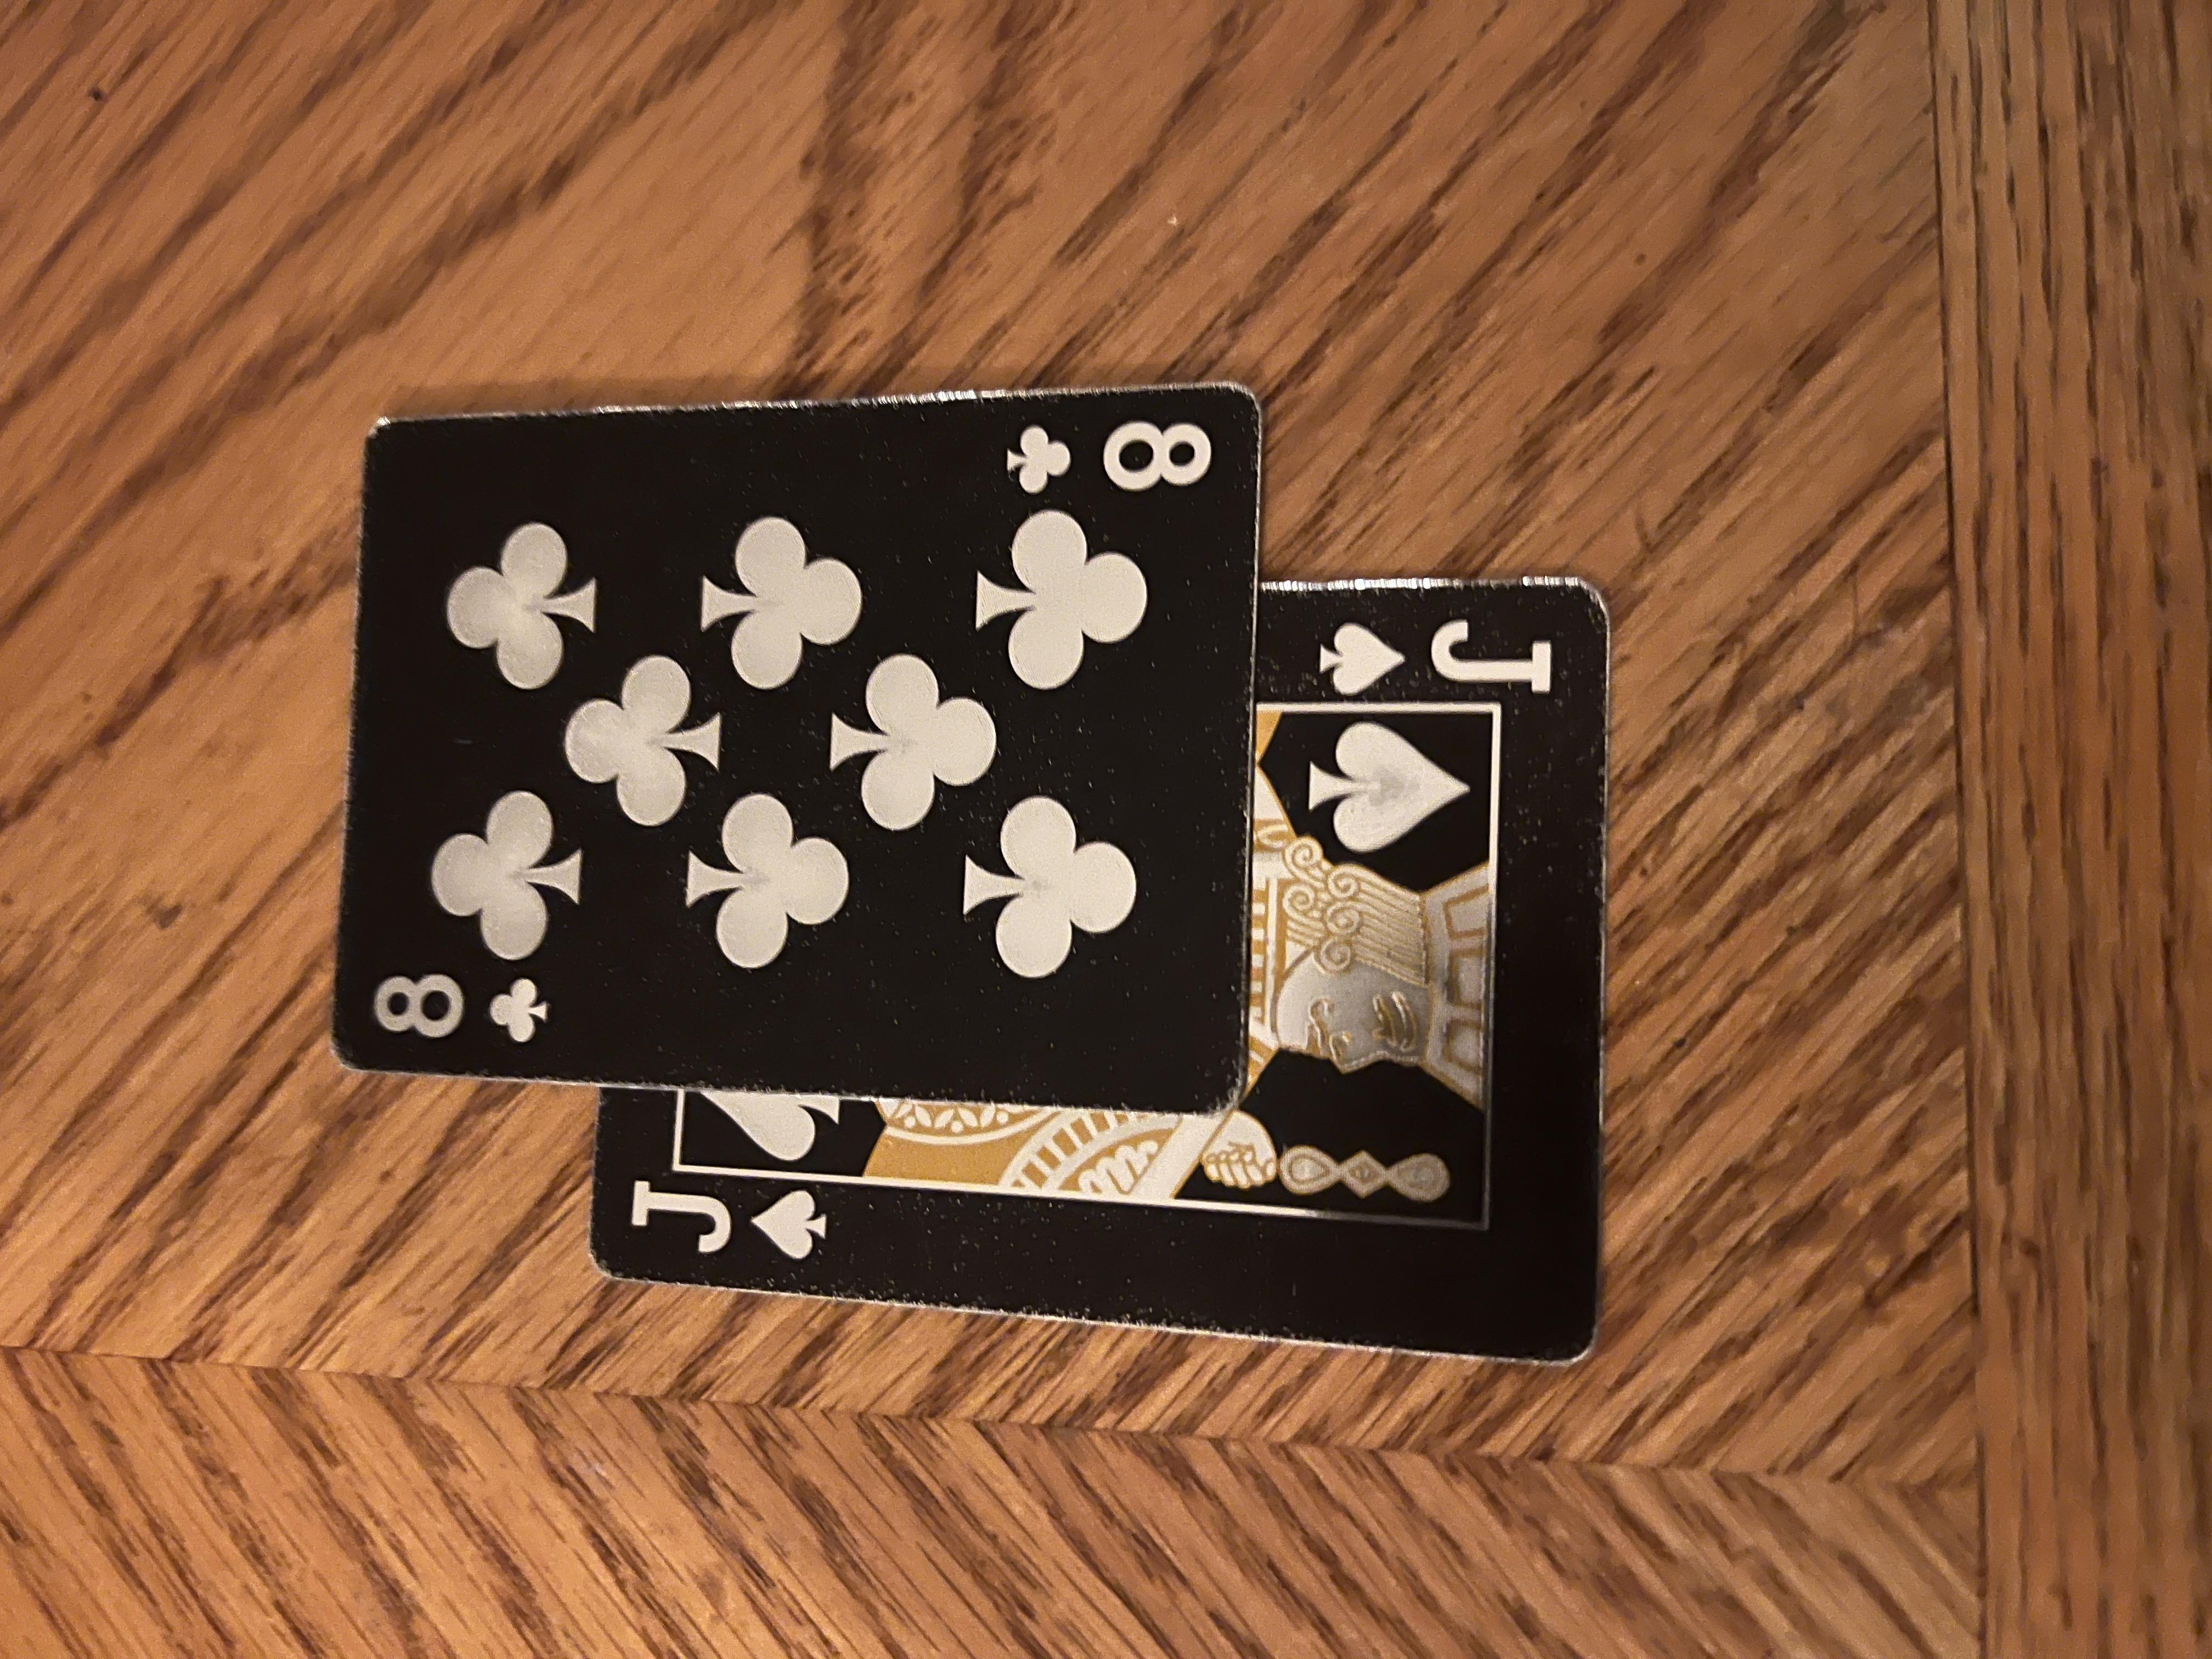8C: (1540, 737, 1679, 931), (812, 261, 944, 429)
JS: (1273, 978, 1413, 1182), (538, 455, 662, 634)
